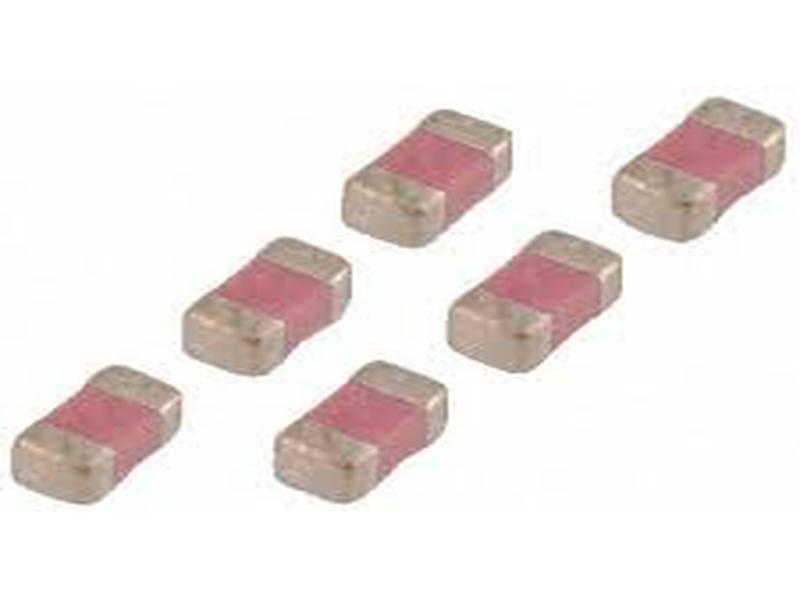SMD capacitor: (187, 237, 359, 377)
